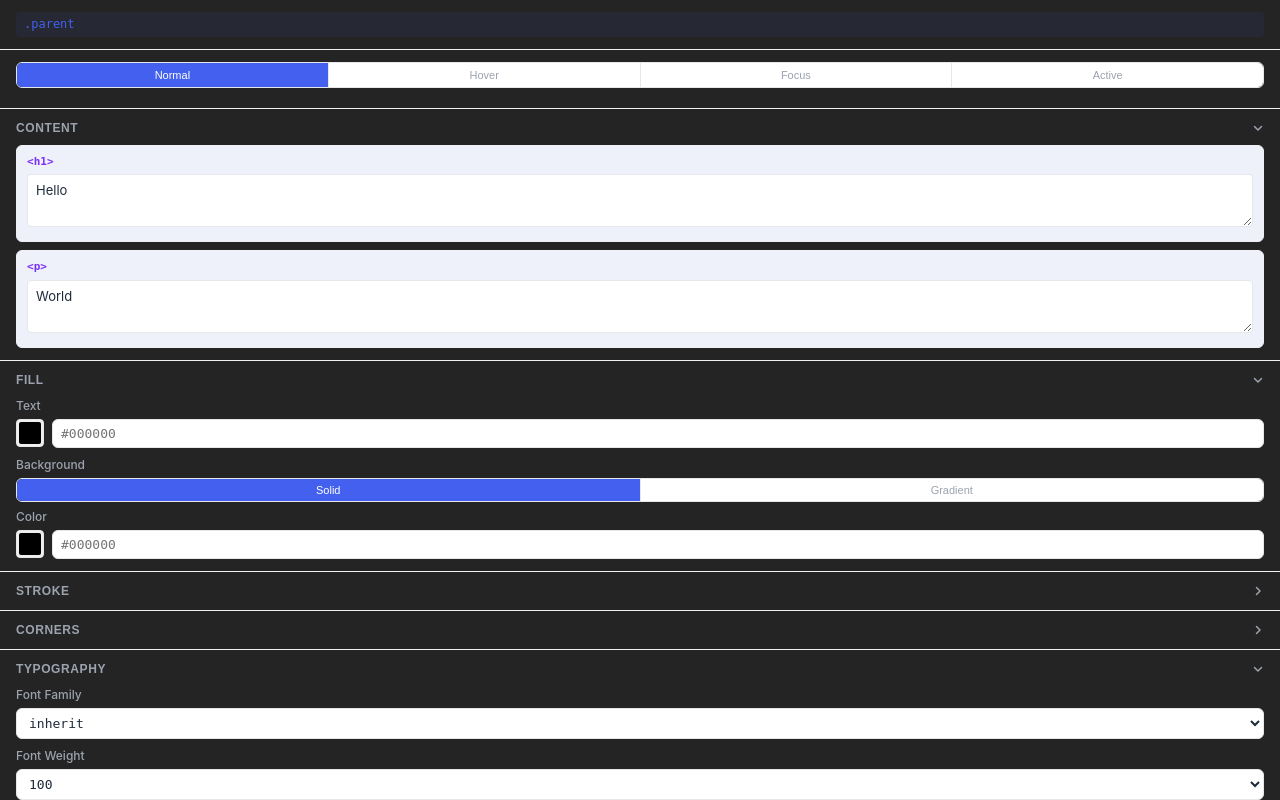
Test: EditorPanel › child edit auto-adds child to selection and tracks in pendingEdits
Replace the text in the text box below "h1" with "Updated" at (640, 201), box [27, 174, 1253, 227]
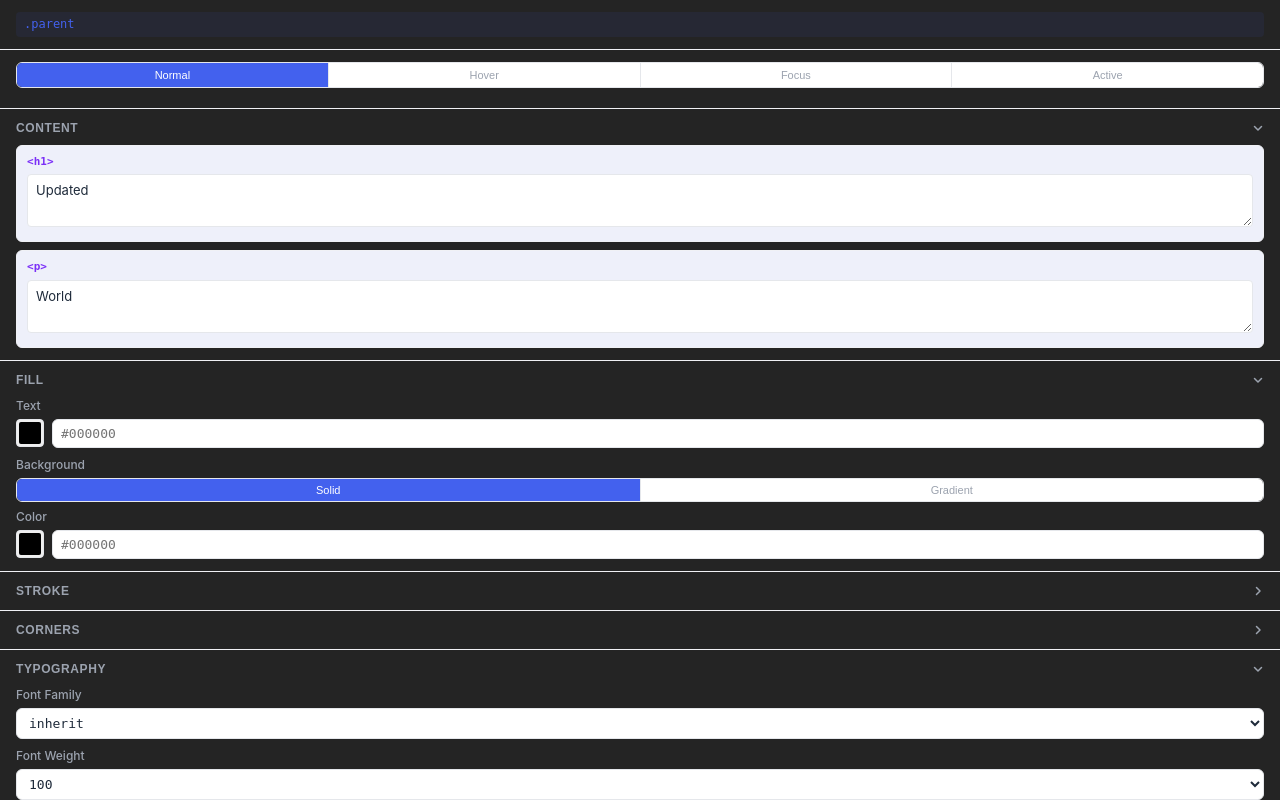
Leave the text box below "h1", box [27, 174, 1253, 227]
(page scrolled)
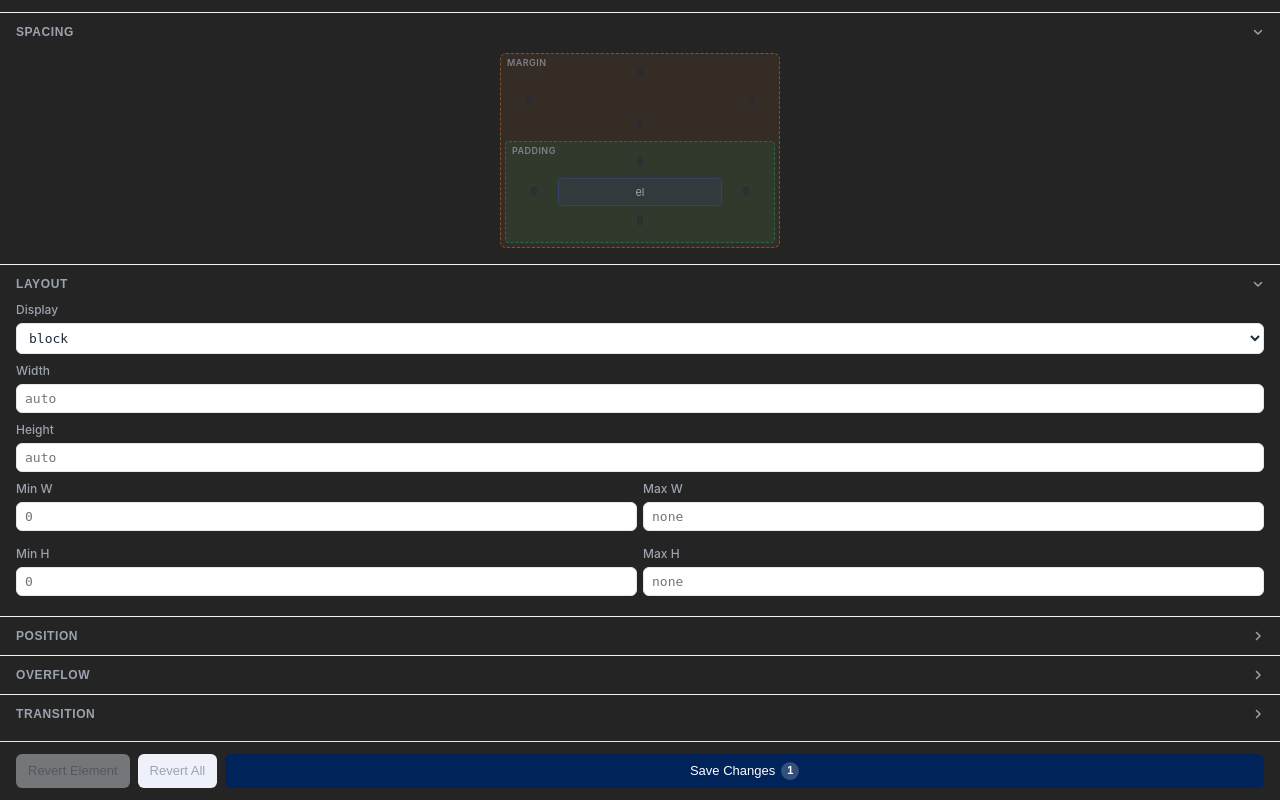
Expected: the button "Save Changes 1" is enabled, [225, 754, 1264, 788]
